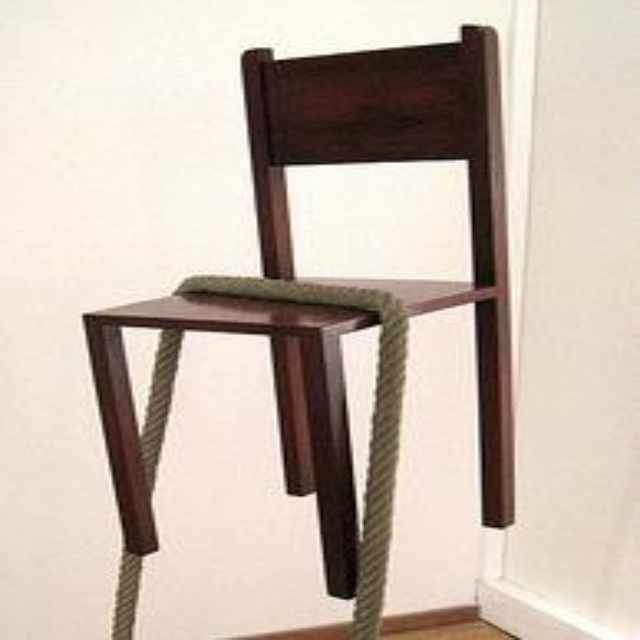obstacle: (82, 26, 511, 638)
